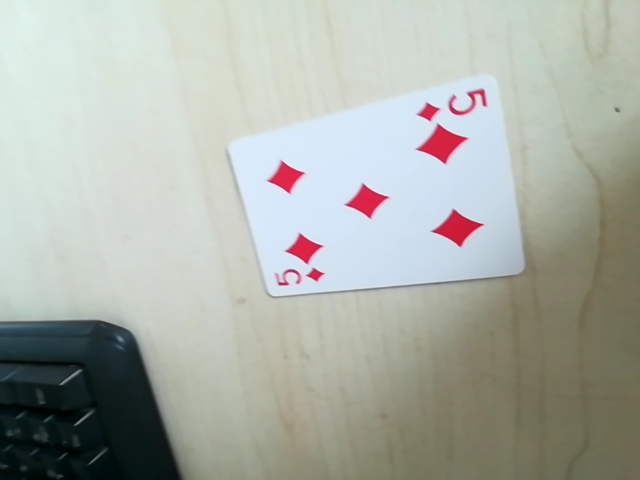fk 5: (415, 83, 493, 125), (271, 261, 329, 295)
